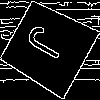J: (23, 23, 76, 67)
